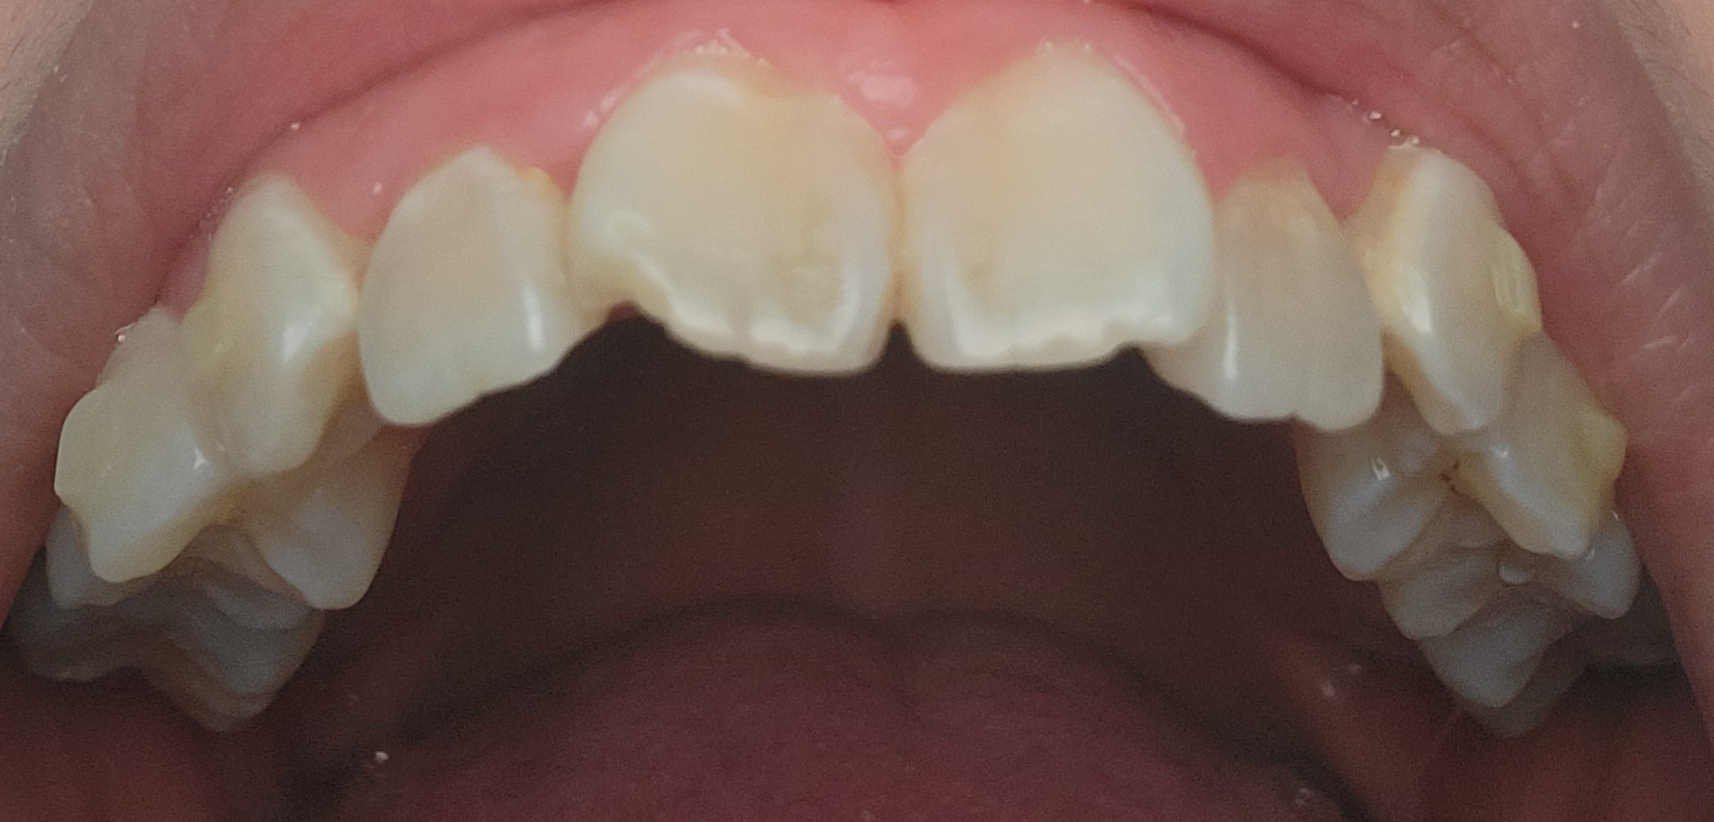teeth: (568, 56, 894, 375), (56, 319, 391, 622), (909, 46, 1209, 367), (1310, 348, 1630, 582), (354, 151, 596, 430), (1184, 165, 1387, 434), (1359, 145, 1540, 446), (178, 177, 360, 473)
